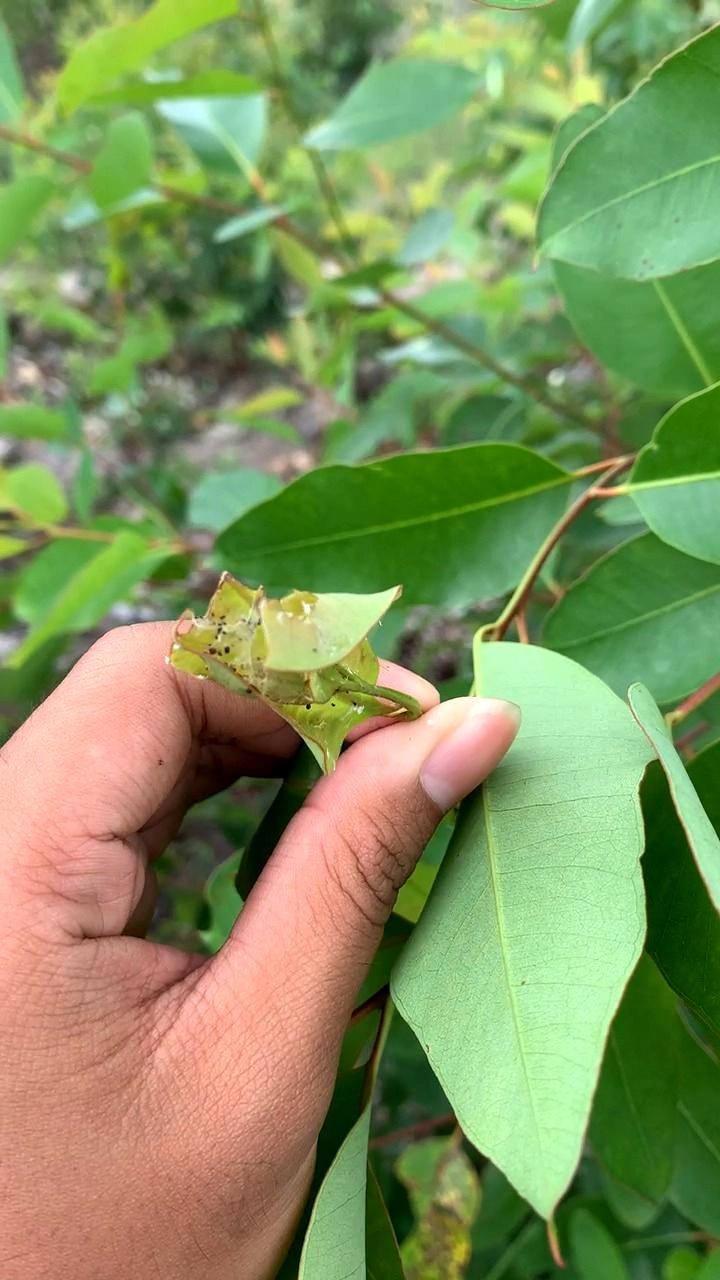Leaf Roller - Leaf: (163, 578, 411, 767)
